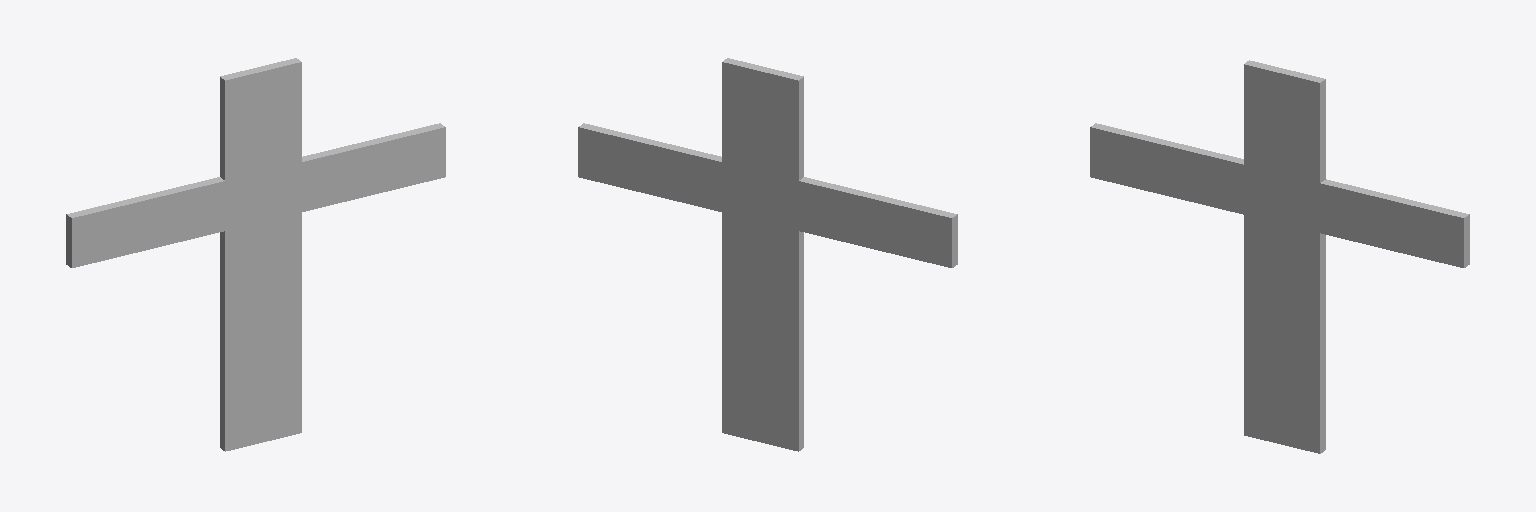
Rendered from cross.obj.
The picture shows the model from 3 angles: view 1: azimuth 30°, elevation 25°; view 2: azimuth 150°, elevation 25°; view 3: azimuth 330°, elevation 25°; orthographic projection.
Visible parts, largest first — view 1: object 1; view 2: object 1; view 3: object 1.
Boxes of the visible parts, x1=… form: object 1: x1=66, y1=58, x2=445, y2=451; object 1: x1=578, y1=58, x2=957, y2=451; object 1: x1=1090, y1=60, x2=1469, y2=453.
Size of the model in its own units: 3.9 by 3.7 by 0.1.